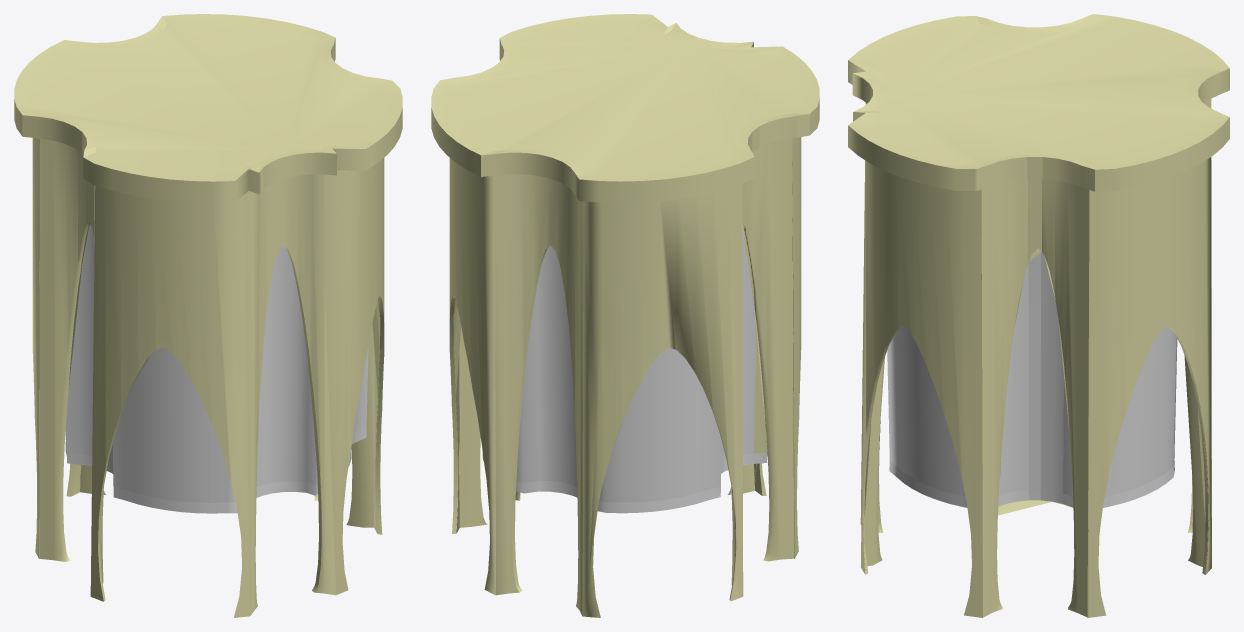
The model's file is building_model3.fbx.
The picture shows the model from 3 angles, left to right: view 1: azimuth 30°, elevation 25°; view 2: azimuth 150°, elevation 25°; view 3: azimuth 270°, elevation 25°; orthographic projection.
Visible parts, largest first — view 1: Cube; view 2: Cube; view 3: Cube.
Part boxes in pixels (x1,y1,x2,y2): Cube: (14, 14, 402, 617); Cube: (431, 14, 819, 617); Cube: (848, 14, 1229, 617).
Bounding box in the file's own units: 2392 × 3247 × 2471.
